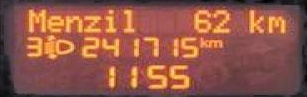1: (103, 62, 117, 88), (127, 62, 138, 87), (130, 35, 139, 59), (170, 34, 179, 57)
2: (212, 7, 230, 32), (80, 34, 99, 57)
3: (22, 34, 40, 57)
4: (99, 35, 119, 56)
5: (167, 62, 190, 88), (144, 62, 165, 88), (178, 34, 197, 57)
6: (190, 7, 210, 32)
7: (142, 34, 160, 57)
X: (25, 6, 45, 31), (264, 12, 285, 32), (247, 6, 263, 32), (120, 6, 135, 32), (100, 7, 115, 32), (63, 12, 82, 31), (82, 13, 100, 31), (45, 13, 62, 31), (205, 37, 224, 47), (197, 34, 205, 47)
